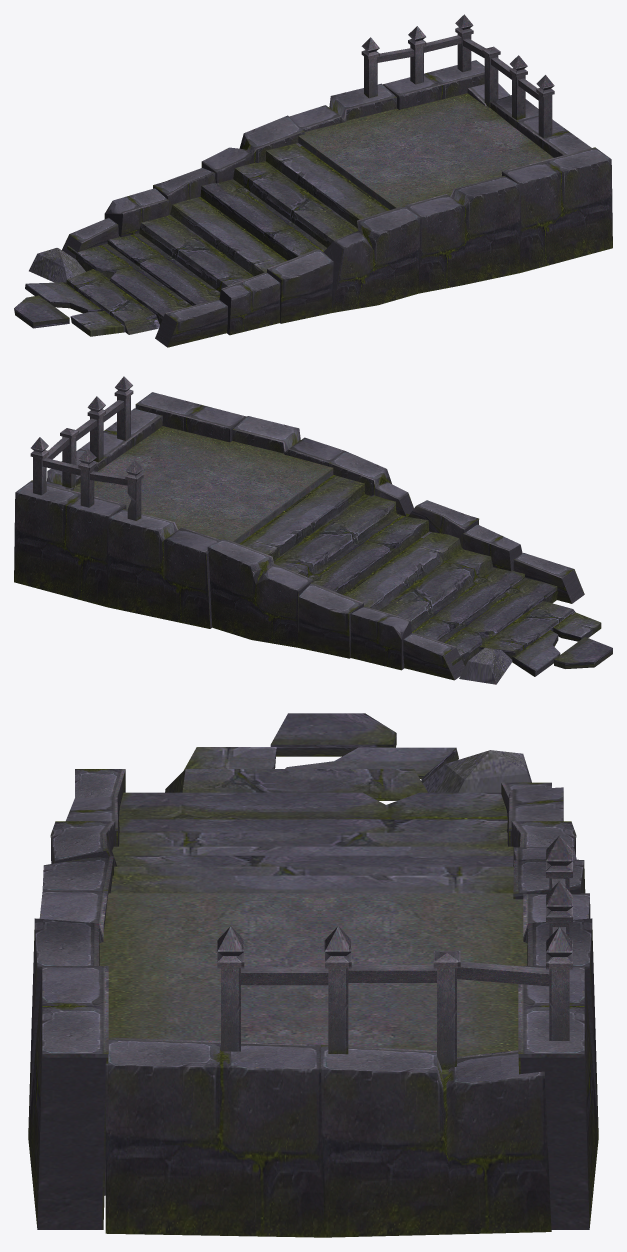
The model's file is yw_langhuanfudi_taijie01.FBX.
3 views of the same model, one above another, from view 1: azimuth 30°, elevation 25°; view 2: azimuth 150°, elevation 25°; view 3: azimuth 270°, elevation 25° (orthographic). The views are drawn at different scales.
Parts seen in each view (by area): view 1: yw_langhuanfudi_taijie01; view 2: yw_langhuanfudi_taijie01; view 3: yw_langhuanfudi_taijie01.
Part boxes in pixels (<box>): yw_langhuanfudi_taijie01: <box>14,14,612,347</box>; yw_langhuanfudi_taijie01: <box>14,376,612,684</box>; yw_langhuanfudi_taijie01: <box>28,713,598,1237</box>.
Bounding box in the file's own units: 880 × 229 × 414.
